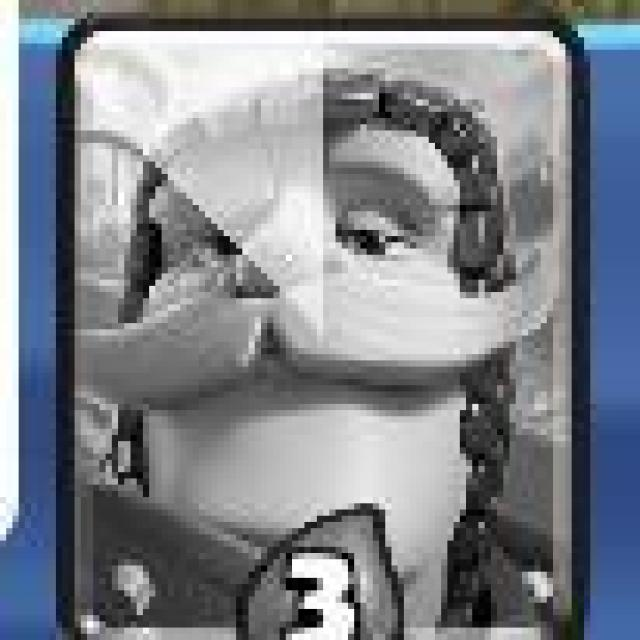Knight: (61, 20, 582, 640)
